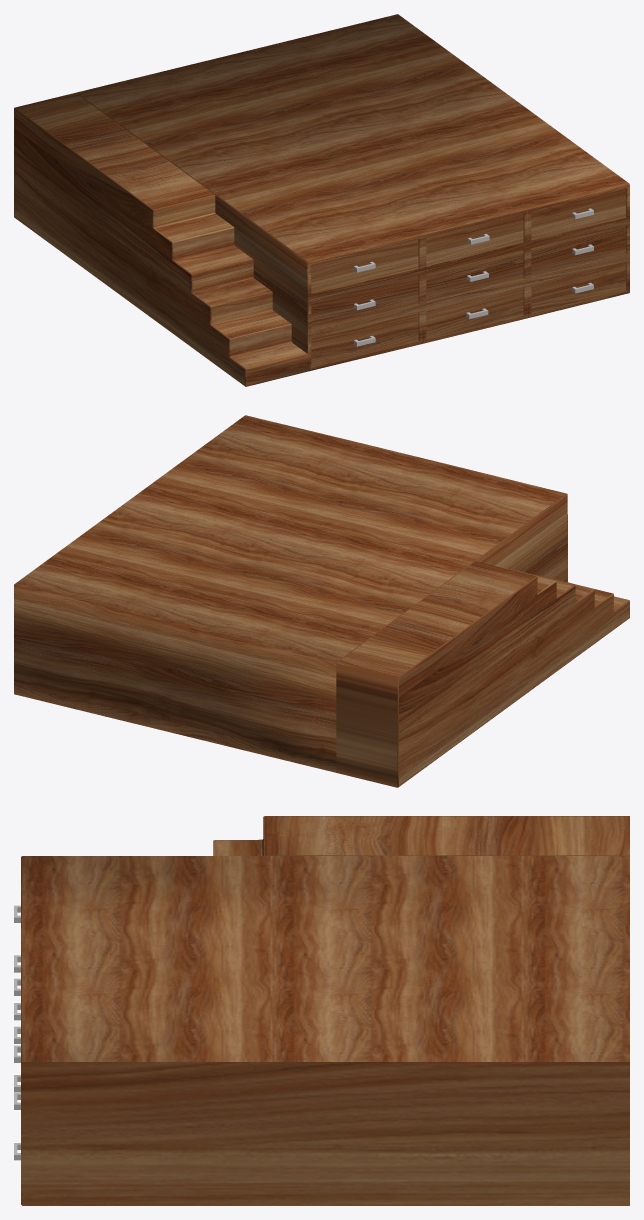
File: Platform.FBX
The picture shows the model from 3 angles, top to bottom: view 1: azimuth 30°, elevation 25°; view 2: azimuth 150°, elevation 25°; view 3: azimuth 270°, elevation 25°; orthographic projection. The views are drawn at different scales.
Visible parts, largest first — view 1: Platform; view 2: Platform; view 3: Platform.
Part boxes in pixels (bbox=[...]): Platform: bbox=[14, 14, 629, 386]; Platform: bbox=[14, 415, 629, 787]; Platform: bbox=[21, 816, 629, 1205].
Size of the model in its own units: 110 by 30 by 116.
